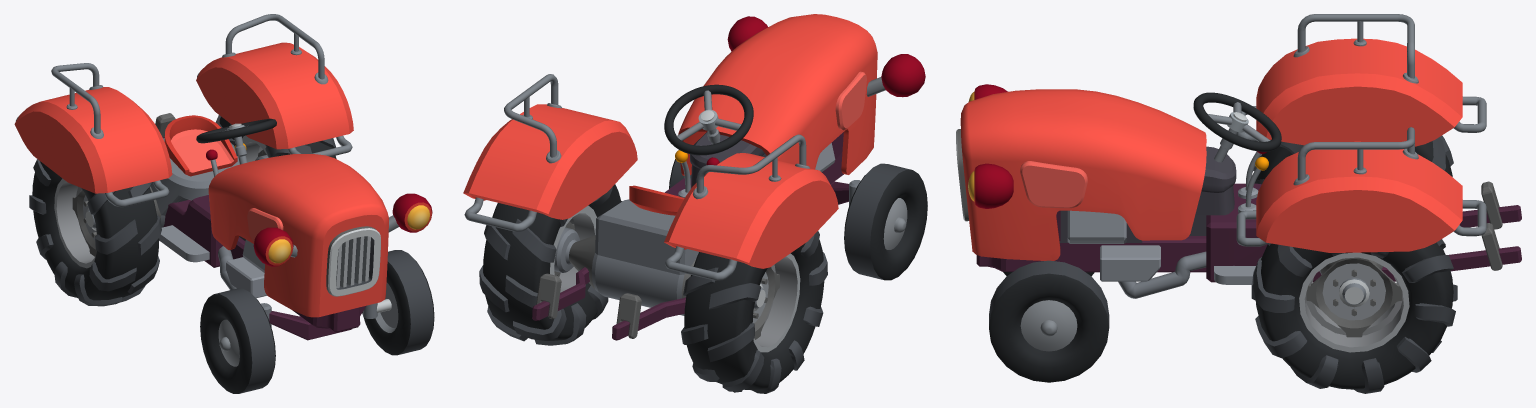
File: Tractor_0_GRP.fbx
The picture shows the model from 3 angles, left to right: view 1: azimuth 30°, elevation 25°; view 2: azimuth 150°, elevation 25°; view 3: azimuth 270°, elevation 25°; orthographic projection. The views are drawn at different scales.
Visible parts, largest first — view 1: Tractor_0_mesh, Tractor_0_Wheel_BR_mesh, Tractor_0_Wheel_FR_mesh, Tractor_0_Wheel_FL_mesh, Tractor_0_Wheel_BL_mesh; view 2: Tractor_0_mesh, Tractor_0_Wheel_BR_mesh, Tractor_0_Wheel_BL_mesh, Tractor_0_Wheel_FR_mesh; view 3: Tractor_0_mesh, Tractor_0_Wheel_BL_mesh, Tractor_0_Wheel_FL_mesh, Tractor_0_Wheel_BR_mesh.
Part boxes in pixels (bbox=[...]): Tractor_0_mesh: bbox=[14, 14, 432, 340]; Tractor_0_Wheel_BR_mesh: bbox=[29, 159, 161, 306]; Tractor_0_Wheel_FR_mesh: bbox=[200, 288, 275, 393]; Tractor_0_Wheel_FL_mesh: bbox=[362, 250, 434, 355]; Tractor_0_Wheel_BL_mesh: bbox=[215, 115, 336, 162]; Tractor_0_mesh: bbox=[463, 14, 925, 340]; Tractor_0_Wheel_BR_mesh: bbox=[681, 231, 827, 393]; Tractor_0_Wheel_BL_mesh: bbox=[479, 184, 622, 345]; Tractor_0_Wheel_FR_mesh: bbox=[844, 163, 927, 280]; Tractor_0_mesh: bbox=[956, 14, 1521, 298]; Tractor_0_Wheel_BL_mesh: bbox=[1251, 239, 1457, 393]; Tractor_0_Wheel_FL_mesh: bbox=[989, 260, 1109, 382]; Tractor_0_Wheel_BR_mesh: bbox=[1253, 135, 1453, 184].
Size of the model in its own units: 1.37 by 1.11 by 2.22.
